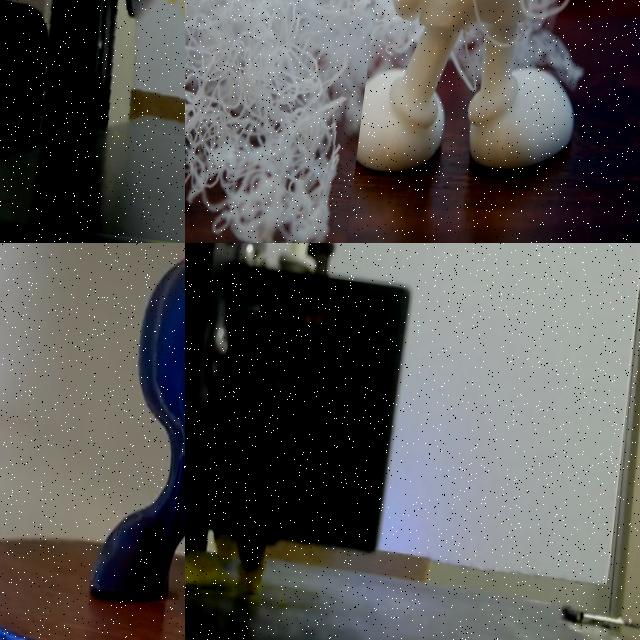spaghetti: (185, 0, 407, 243), (185, 536, 263, 595)
